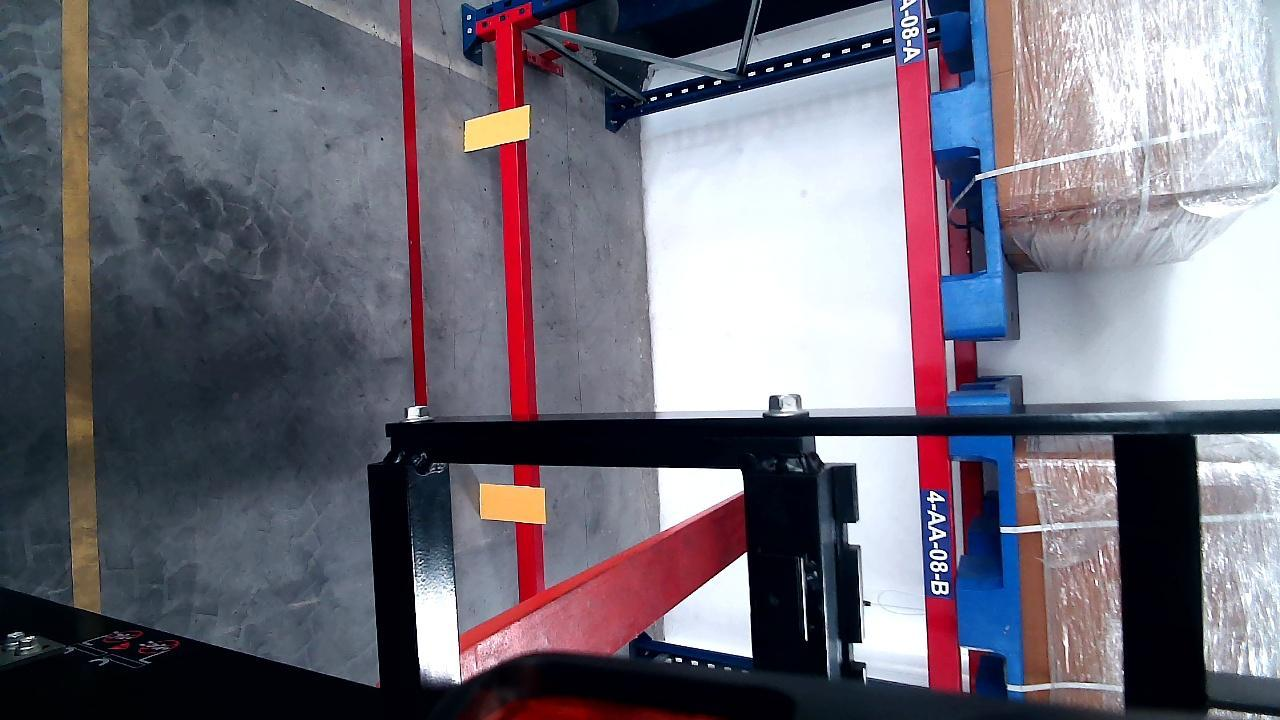yellow_line: (59, 0, 100, 613)
